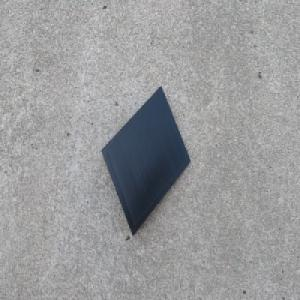PlasticPart: (100, 84, 191, 237)
